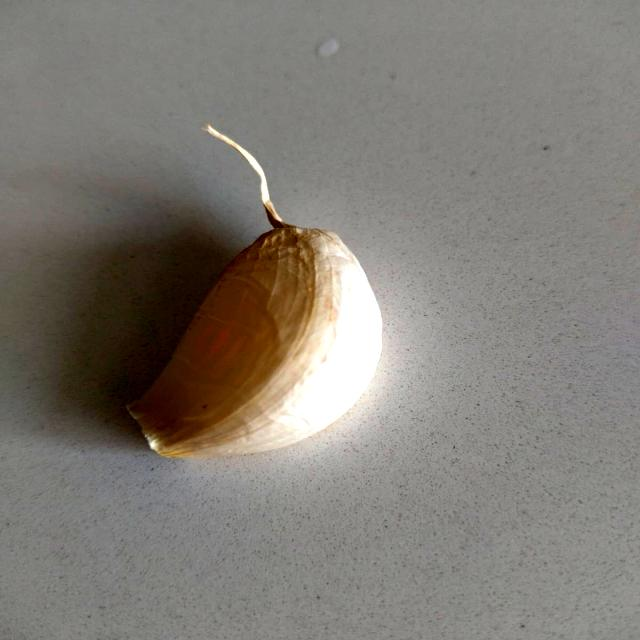garlic: (96, 194, 429, 464)
